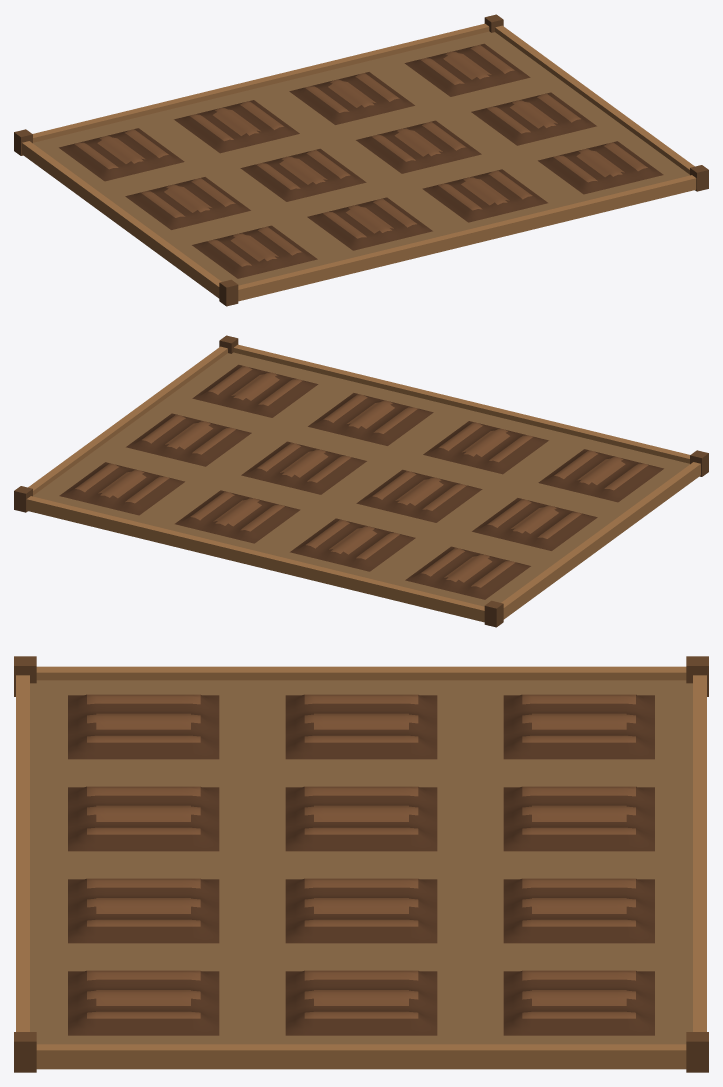
The model's file is garden_3x4.glb.
3 renders of one model, top to bottom at view 1: azimuth 30°, elevation 25°; view 2: azimuth 150°, elevation 25°; view 3: azimuth 270°, elevation 25°, orthographic. The views are drawn at different scales.
Parts seen in each view (by area): view 1: Rival_Garden; view 2: Rival_Garden; view 3: Rival_Garden.
Part boxes in pixels (x1,y1,x2,y2): Rival_Garden: (14,14,708,306); Rival_Garden: (14,335,708,627); Rival_Garden: (14,656,708,1072).
Bounding box in the file's own units: 9.63 × 0.36 × 7.34.
